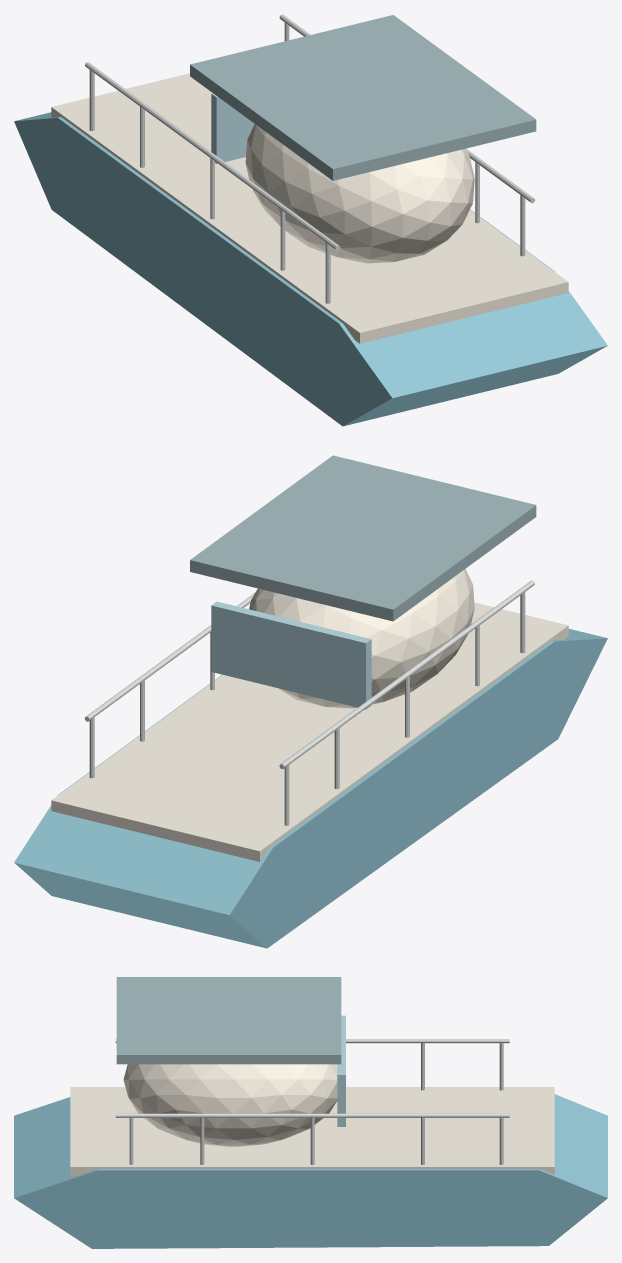
Rendered from boat.glb.
3 renders of one model, top to bottom at view 1: azimuth 30°, elevation 25°; view 2: azimuth 150°, elevation 25°; view 3: azimuth 270°, elevation 25°, orthographic. The views are drawn at different scales.
Parts seen in each view (by area): view 1: Boat_Hull_001, Boat_Deck_002, Boat_Roof_005, Boat_Cabin_003, Boat_Windshield_004, Boat_Handrail_011, Boat_Handrail_017; view 2: Boat_Hull_001, Boat_Deck_002, Boat_Roof_005, Boat_Windshield_004, Boat_Cabin_003, Boat_Handrail_011, Boat_Handrail_017; view 3: Boat_Hull_001, Boat_Deck_002, Boat_Roof_005, Boat_Cabin_003, Boat_Handrail_017, Boat_Handrail_011, Boat_Windshield_004.
Part boxes in pixels (bbox=[...]): Boat_Hull_001: bbox=[14, 112, 607, 426]; Boat_Deck_002: bbox=[51, 73, 568, 343]; Boat_Roof_005: bbox=[190, 15, 536, 180]; Boat_Cabin_003: bbox=[245, 124, 474, 263]; Boat_Windshield_004: bbox=[211, 93, 254, 163]; Boat_Handrail_011: bbox=[85, 62, 340, 250]; Boat_Handrail_017: bbox=[279, 14, 534, 203]; Boat_Hull_001: bbox=[14, 628, 607, 948]; Boat_Deck_002: bbox=[51, 602, 568, 861]; Boat_Roof_005: bbox=[190, 455, 536, 621]; Boat_Windshield_004: bbox=[211, 601, 371, 709]; Boat_Cabin_003: bbox=[249, 569, 474, 708]; Boat_Handrail_011: bbox=[279, 580, 534, 768]; Boat_Handrail_017: bbox=[84, 592, 255, 721]; Boat_Hull_001: bbox=[14, 1094, 607, 1248]; Boat_Deck_002: bbox=[70, 1087, 554, 1175]; Boat_Roof_005: bbox=[116, 977, 341, 1064]; Boat_Cabin_003: bbox=[123, 1064, 337, 1146]; Boat_Handrail_017: bbox=[115, 1113, 509, 1117]; Boat_Handrail_011: bbox=[115, 1039, 509, 1043]; Boat_Windshield_004: bbox=[337, 1015, 345, 1126].
Bounding box in the file's own units: 2.48 × 2.68 × 7.54.
